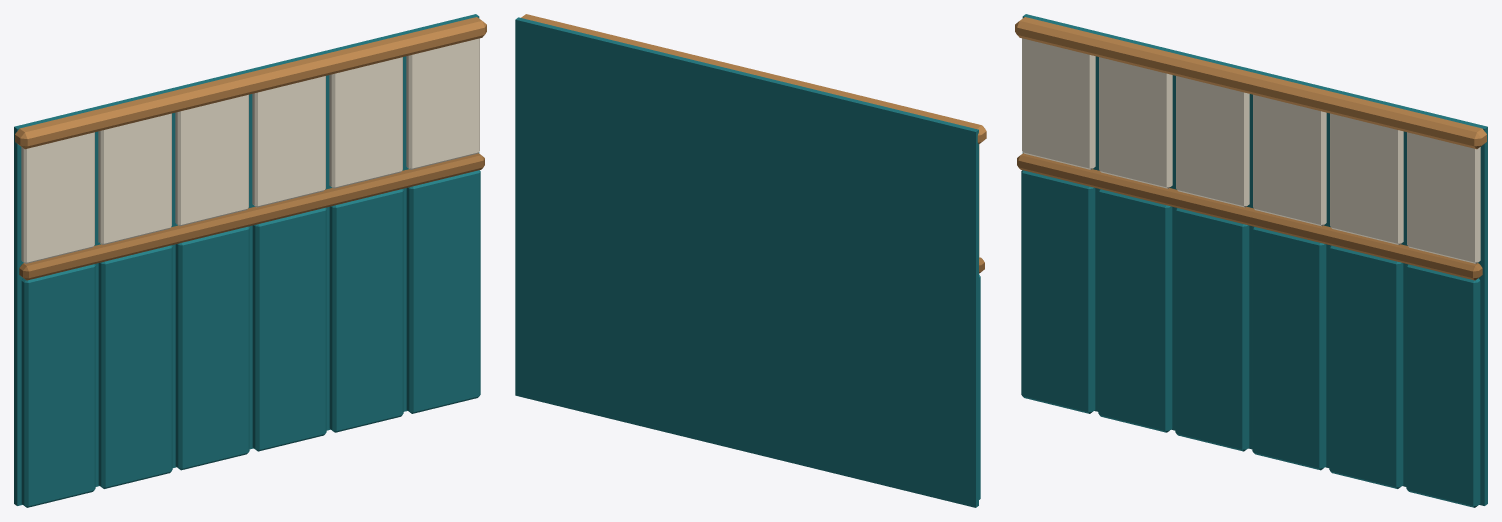
Rendered from wall_panel_1m.glb.
The picture shows the model from 3 angles, left to right: view 1: azimuth 30°, elevation 25°; view 2: azimuth 150°, elevation 25°; view 3: azimuth 330°, elevation 25°; orthographic projection.
Visible parts, largest first — view 1: wall_panel_1m; view 2: wall_panel_1m; view 3: wall_panel_1m.
Part boxes in pixels (x1,y1,x2,y2): wall_panel_1m: [14, 14, 486, 507]; wall_panel_1m: [515, 14, 986, 507]; wall_panel_1m: [1015, 14, 1487, 507].
Bounding box in the file's own units: 1.01 × 0.78 × 0.042.
